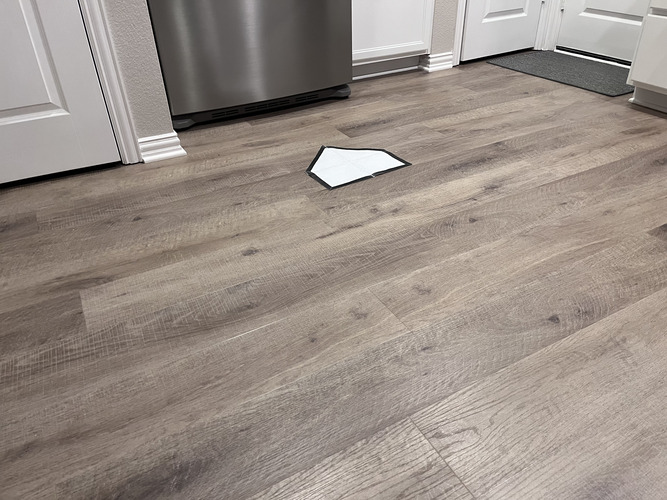homeplate: (303, 144, 411, 190)
